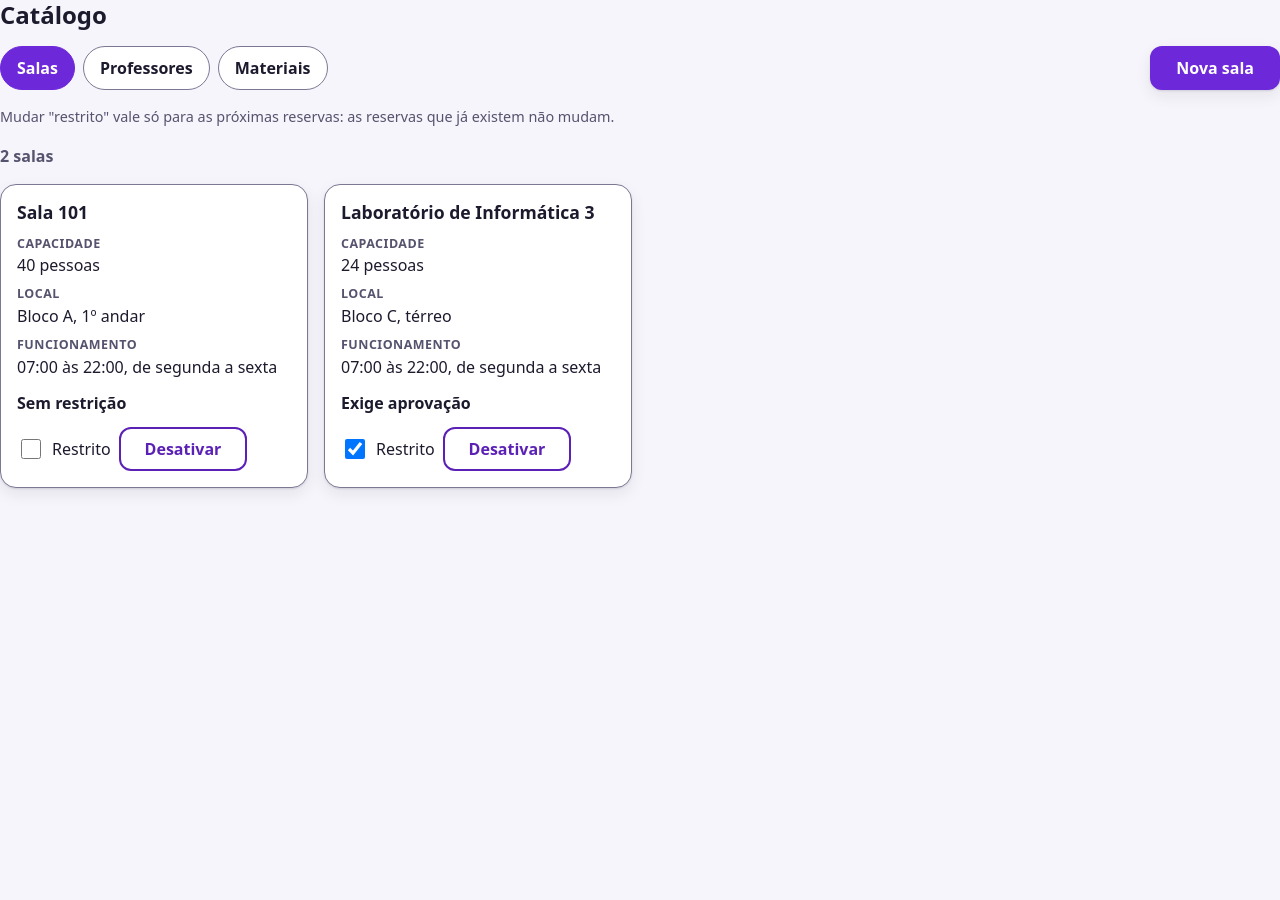
Scenario: PaginaDoCatalogo: desativar (irreversível, com confirmação) › Desativar abre um diálogo modal com título e o recurso em questão
The width and height of the screenshot is (1280, 900).
Click the button "Desativar" below "Sem restrição". click: (183, 449)
box: x1=119 y1=427 x2=247 y2=471
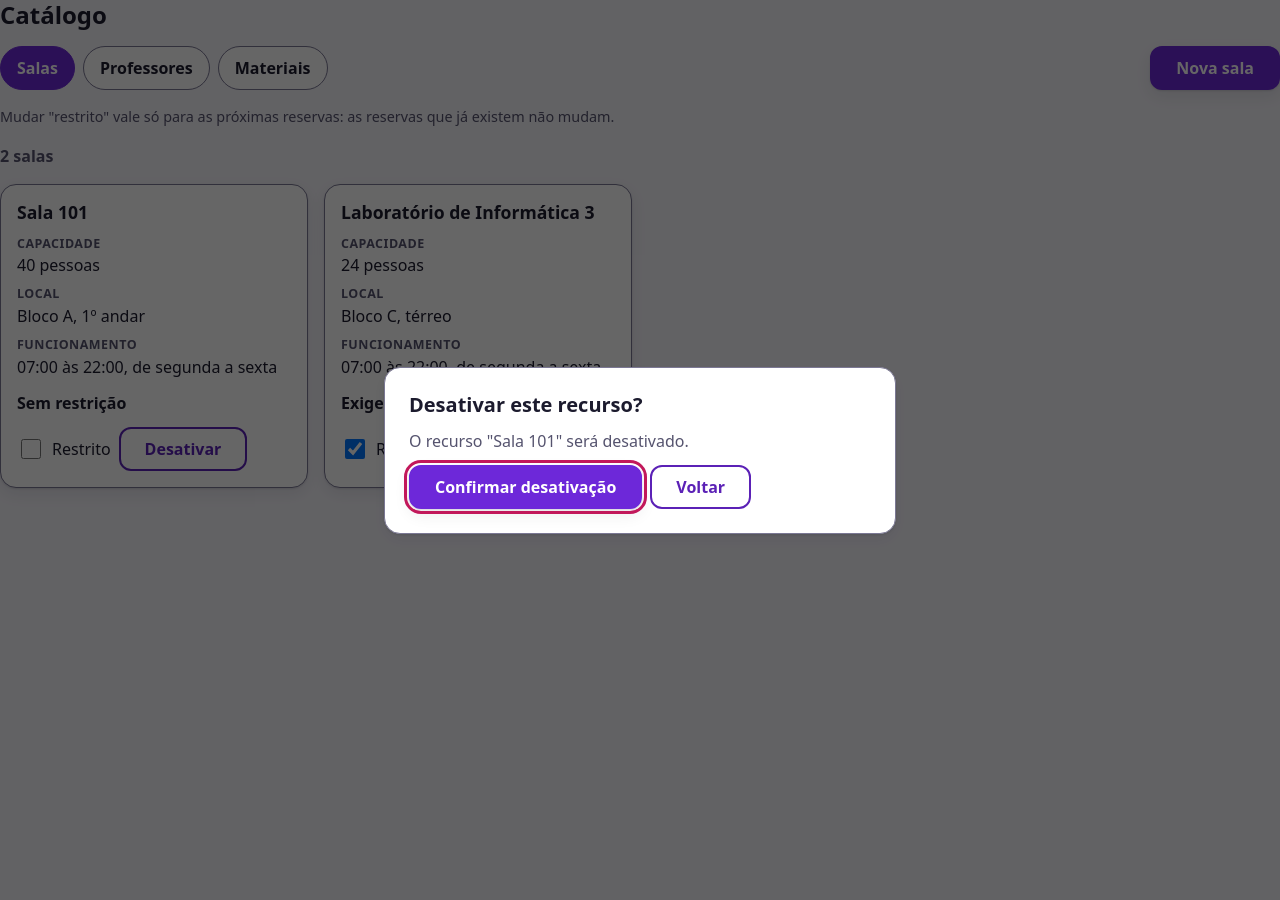
Expected: the button "Voltar" is shown, x1=650 y1=464 x2=751 y2=508
